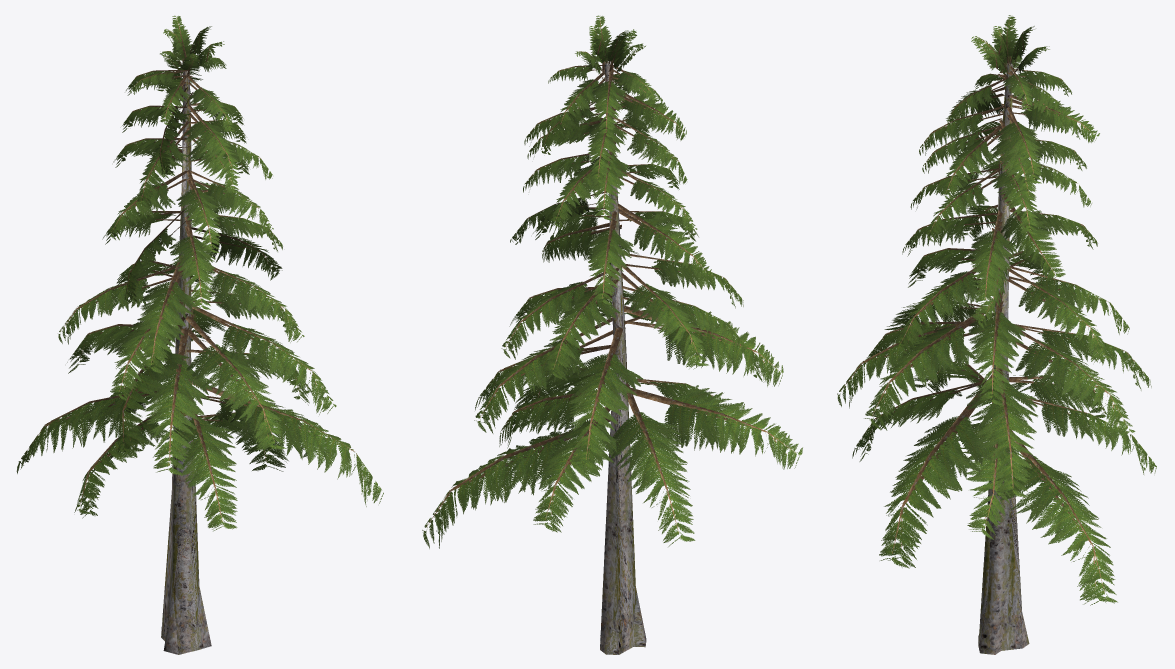
File: Archeopteris_01.DAE
3 views of the same model, side by side, from view 1: azimuth 30°, elevation 25°; view 2: azimuth 150°, elevation 25°; view 3: azimuth 270°, elevation 25° (orthographic).
Parts seen in each view (by area): view 1: Pachypteris300, Pachypteris100, Pachypteris200; view 2: Pachypteris300, Pachypteris100, Pachypteris200; view 3: Pachypteris300, Pachypteris100, Pachypteris200.
Part boxes in pixels (<box>): Pachypteris300: <box>17,15,383,654</box>; Pachypteris100: <box>17,24,371,652</box>; Pachypteris200: <box>77,17,352,654</box>; Pachypteris300: <box>422,15,802,654</box>; Pachypteris100: <box>436,26,795,654</box>; Pachypteris200: <box>503,18,756,584</box>; Pachypteris300: <box>837,15,1156,654</box>; Pachypteris100: <box>849,19,1145,650</box>; Pachypteris200: <box>878,17,1123,644</box>.
Size of what is drawn, in the model's own units: 6.33 by 5.81 by 12.2.
